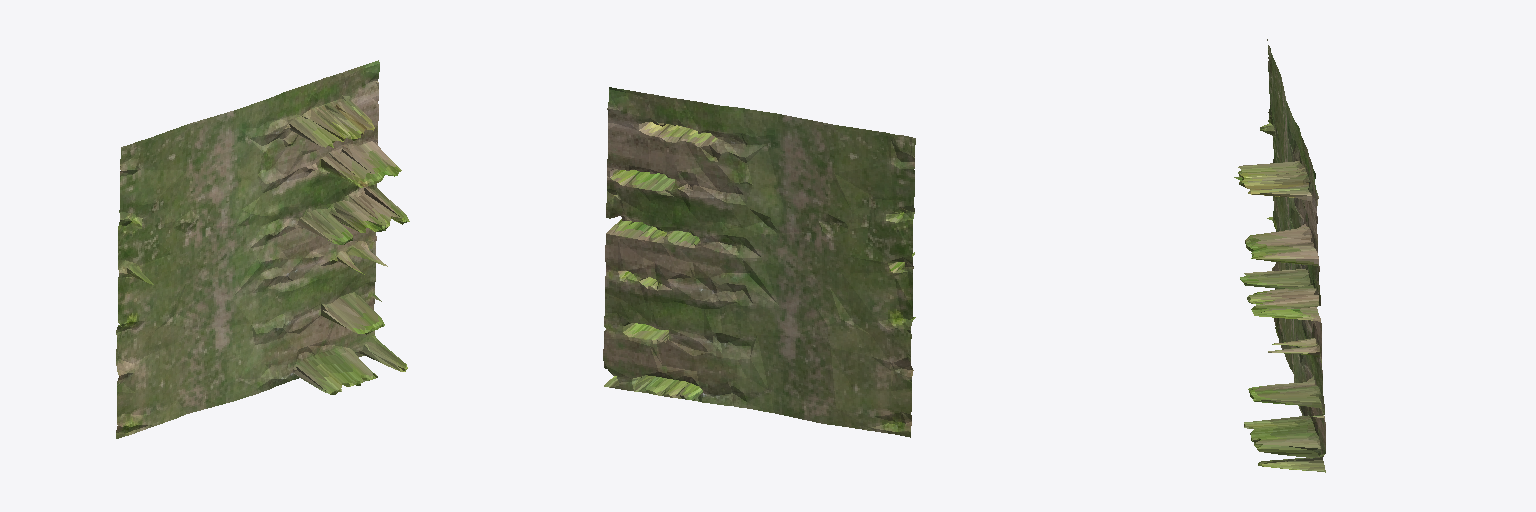
3 views of the same model, side by side, from view 1: azimuth 30°, elevation 25°; view 2: azimuth 150°, elevation 25°; view 3: azimuth 270°, elevation 25° (orthographic).
Visible parts, largest first — view 1: grp1; view 2: grp1; view 3: grp1.
Part boxes in pixels (x1,y1,x2,y2): grp1: (116,60,409,438); grp1: (603,87,915,437); grp1: (1234,39,1325,472).
Bounding box in the file's own units: 10 × 10 × 2.84.
1 materials, 1 textured.